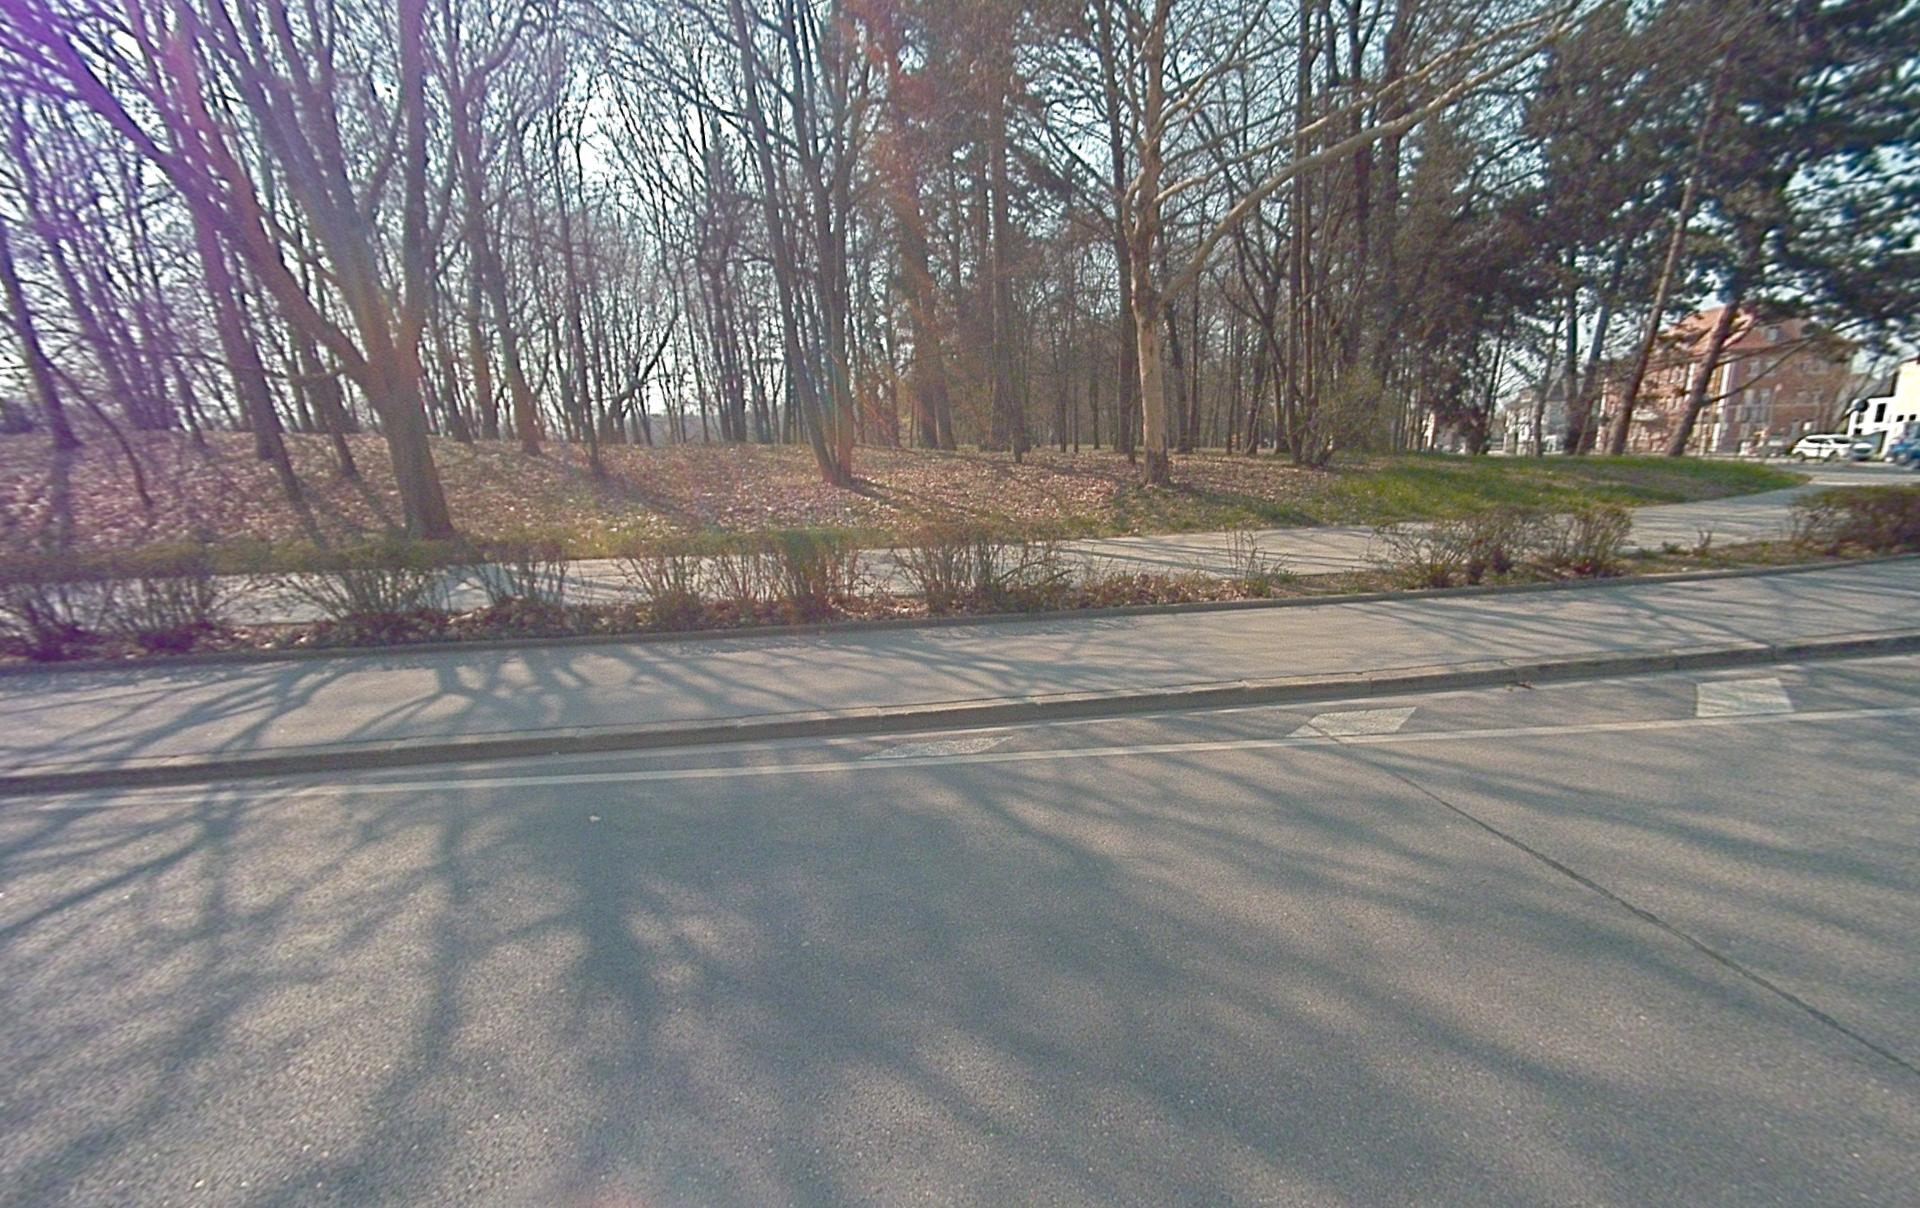car: (1791, 434, 1874, 463), (1887, 436, 1919, 467)
